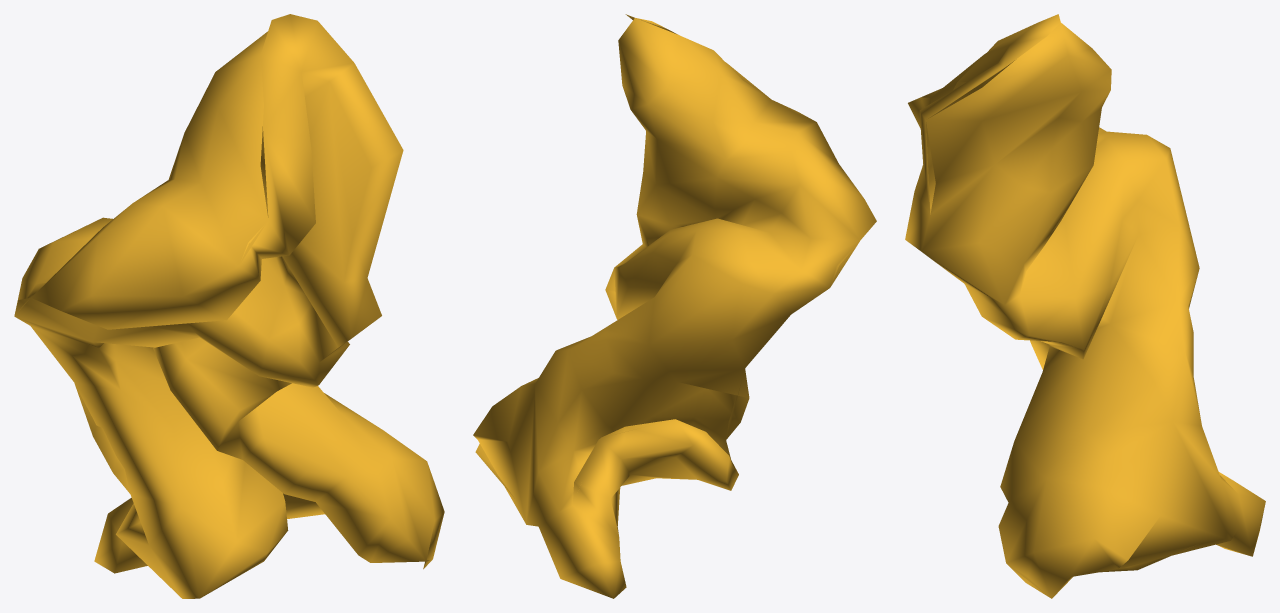
The model's file is nervoso-superior-occipital-gyri-l.glb.
3 renders of one model, left to right at view 1: azimuth 30°, elevation 25°; view 2: azimuth 150°, elevation 25°; view 3: azimuth 270°, elevation 25°, orthographic. The views are drawn at different scales.
Visible parts, largest first — view 1: Superior occipital gyri.l; view 2: Superior occipital gyri.l; view 3: Superior occipital gyri.l.
Part boxes in pixels (left/top/right/bottom): Superior occipital gyri.l: left=14, top=14, right=444, bottom=598; Superior occipital gyri.l: left=473, top=14, right=876, bottom=598; Superior occipital gyri.l: left=905, top=14, right=1265, bottom=598.
Size of the model in its own units: 0.0295 by 0.0397 by 0.0238.
